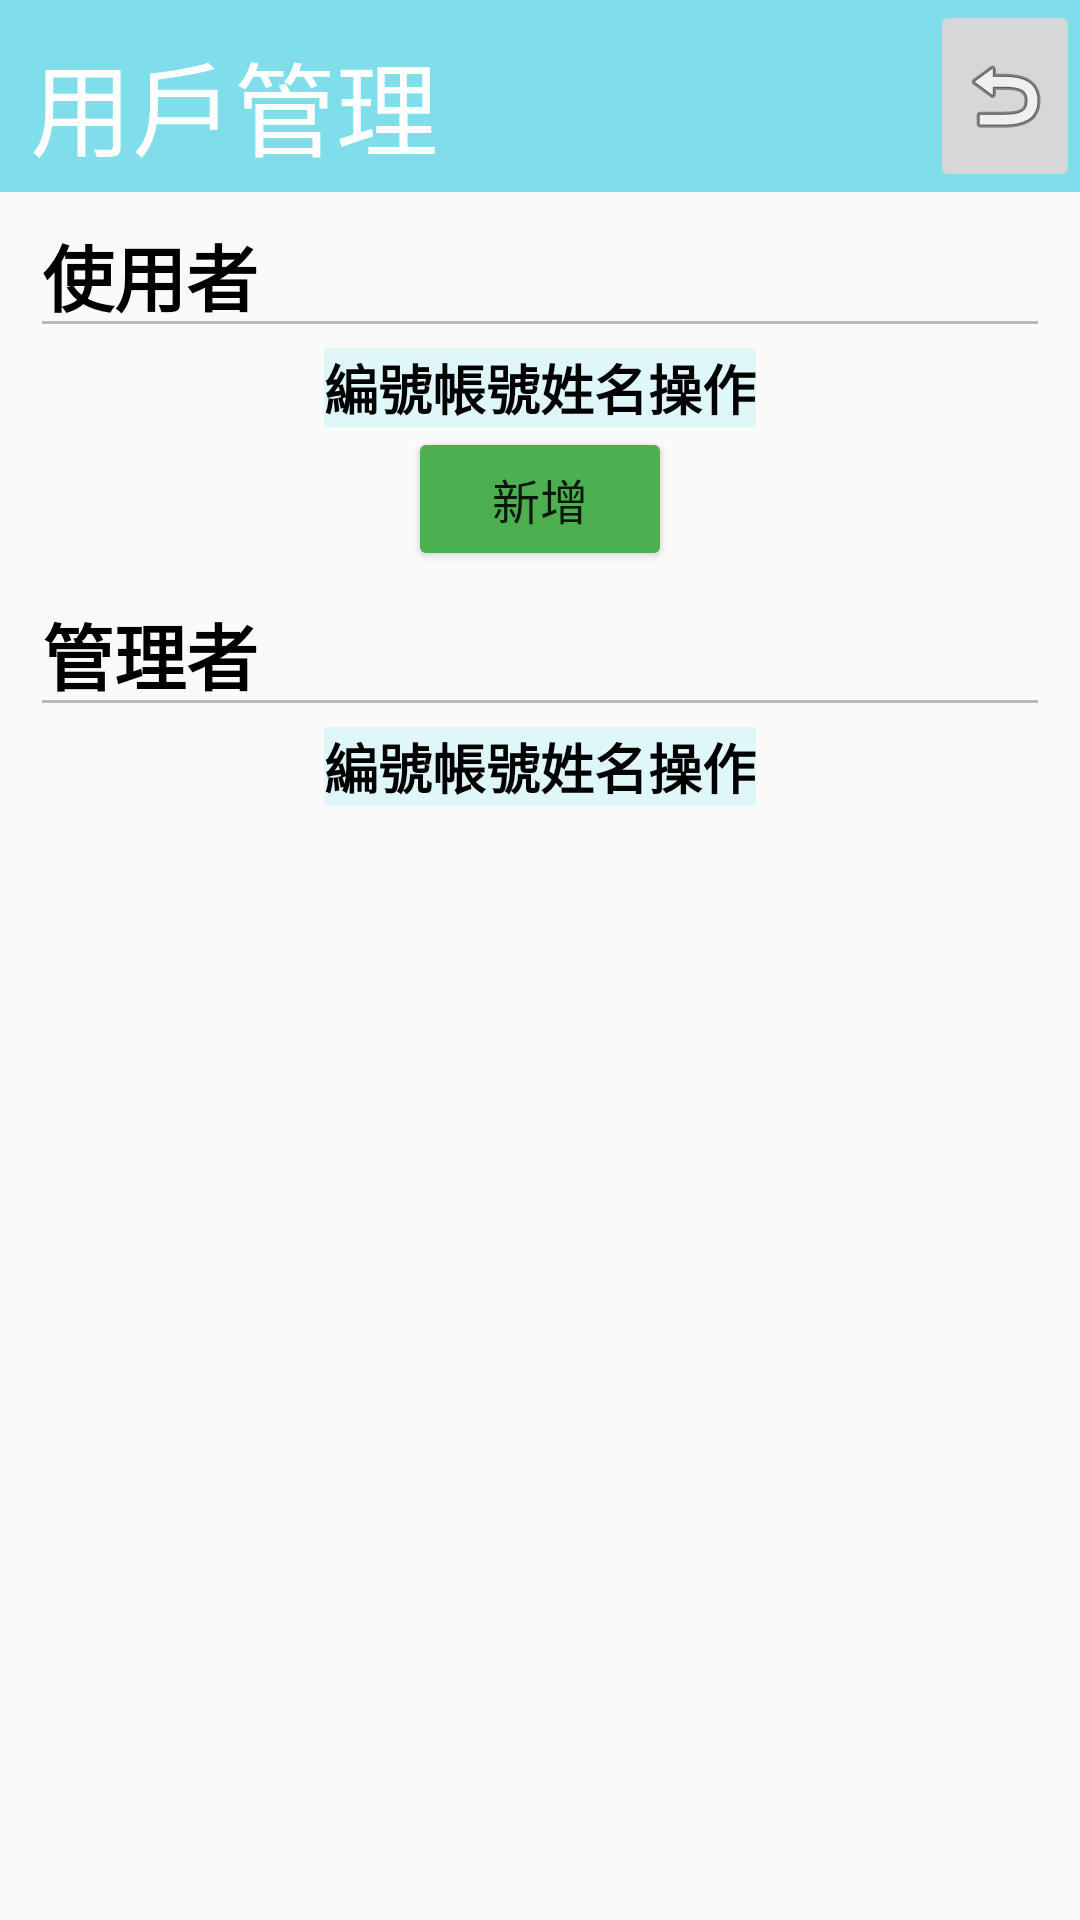

Icon bounding boxes for this 1080x1920 phone screenshot, format (x1, y1, x2, y2):
revert: (942, 18, 1068, 174)
